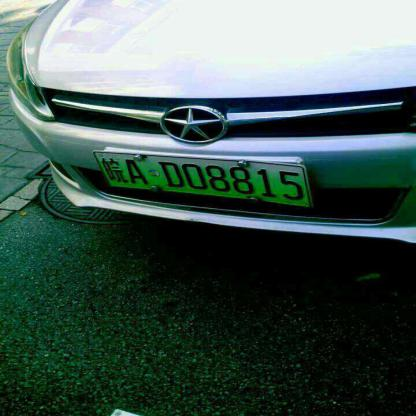lp: (93, 152, 309, 206)
